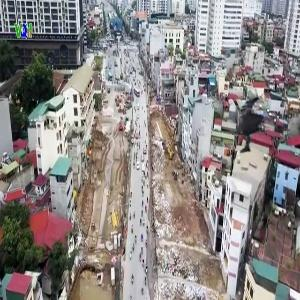drone: (196, 85, 284, 173)
